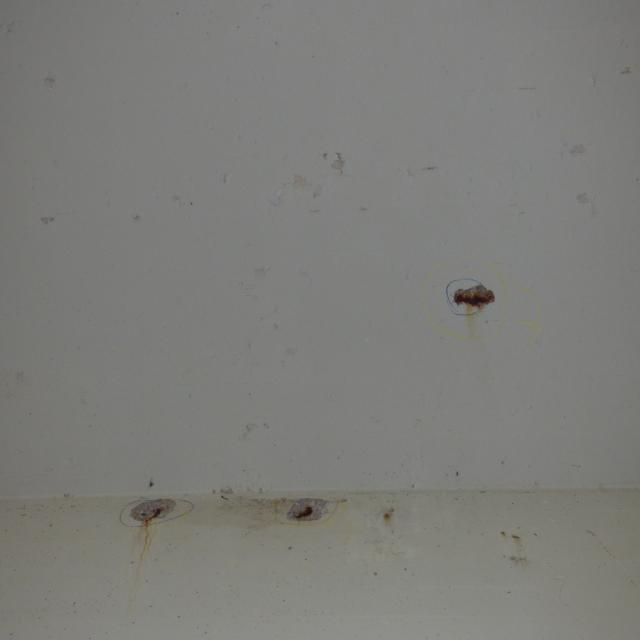corrosion: (130, 491, 178, 617), (290, 497, 398, 532), (438, 274, 504, 320)
